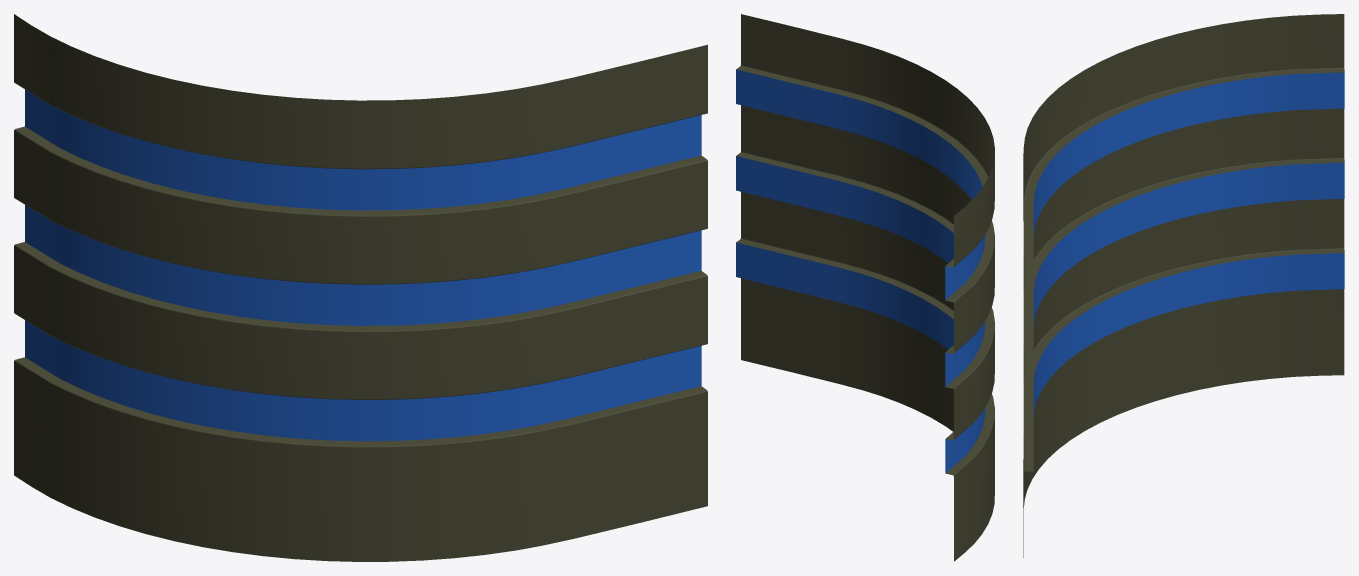
The model's file is Building_1a_wall2.fbx.
3 renders of one model, left to right at view 1: azimuth 30°, elevation 25°; view 2: azimuth 150°, elevation 25°; view 3: azimuth 270°, elevation 25°, orthographic. The views are drawn at different scales.
Parts seen in each view (by area): view 1: Building_1a_wall2_LOD0; view 2: Building_1a_wall2_LOD0; view 3: Building_1a_wall2_LOD0.
Boxes of the visible parts, x1,y1,x2,y2 form: Building_1a_wall2_LOD0: [14, 14, 707, 561]; Building_1a_wall2_LOD0: [736, 14, 994, 561]; Building_1a_wall2_LOD0: [1023, 14, 1344, 557].
Size of what is drawn, in the model's own units: 2218 by 2000 by 1614.
